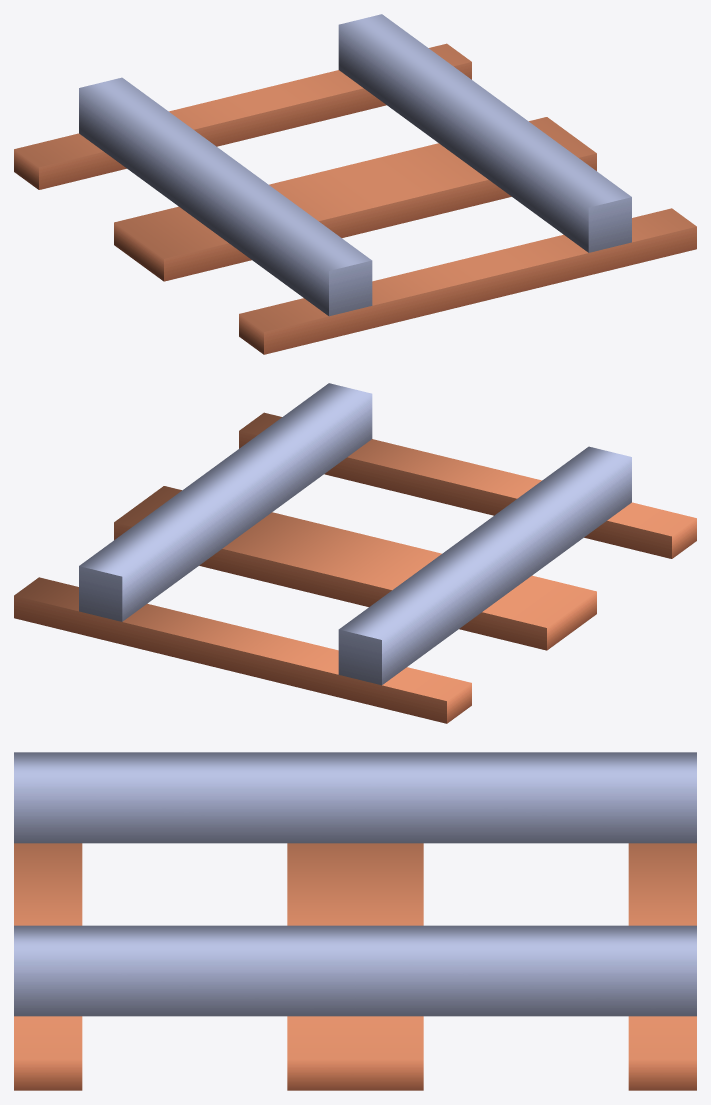
File: k-train-track.glb
3 renders of one model, top to bottom at view 1: azimuth 30°, elevation 25°; view 2: azimuth 150°, elevation 25°; view 3: azimuth 270°, elevation 25°, orthographic. The views are drawn at different scales.
Visible parts, largest first — view 1: track; view 2: track; view 3: track.
Part boxes in pixels (bbox=[...]): track: bbox=[14, 14, 696, 354]; track: bbox=[14, 383, 696, 723]; track: bbox=[14, 752, 696, 1090].
Bounding box in the file's own units: 1 × 0.15 × 1.
Materials: 1 (1 with a texture image).
